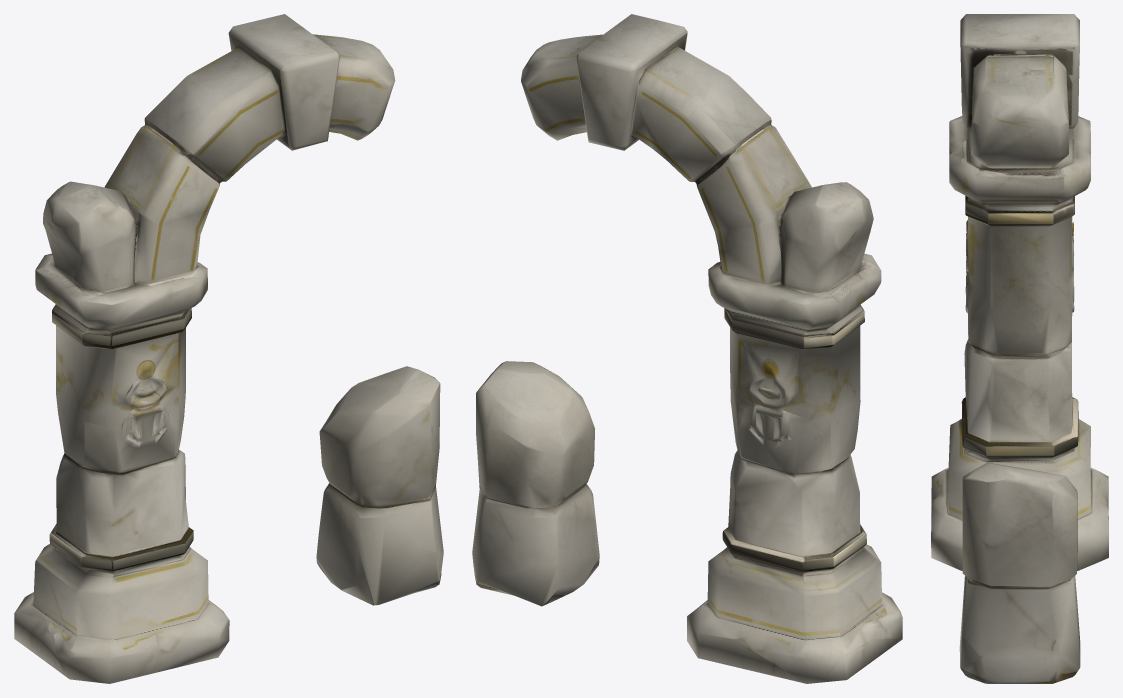
Rendered from irrhakur_ruins_1.glb.
The picture shows the model from 3 angles, left to right: view 1: azimuth 30°, elevation 25°; view 2: azimuth 150°, elevation 25°; view 3: azimuth 270°, elevation 25°; orthographic projection. The views are drawn at different scales.
Visible parts, largest first — view 1: Mesh_0; view 2: Mesh_0; view 3: Mesh_0.
Boxes of the visible parts, <box> form: Mesh_0: <box>14,14,443,683</box>; Mesh_0: <box>472,14,902,683</box>; Mesh_0: <box>931,14,1108,683</box>.
Size of the model in its own units: 1.37 by 1.91 by 0.5256.
1 material, 1 textured.
